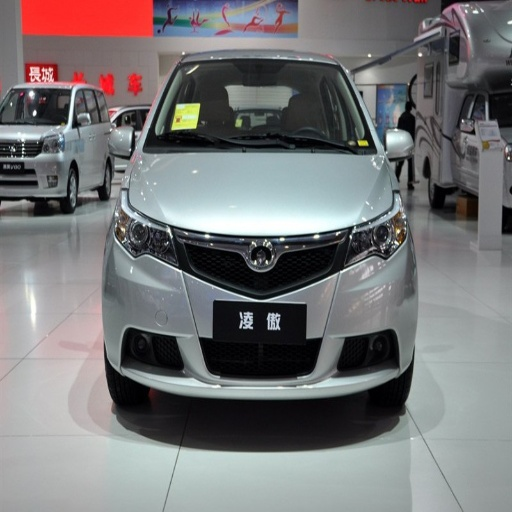front_bumper: (101, 225, 412, 398)
front_right_light: (113, 204, 178, 267)
hood: (131, 152, 392, 234)
